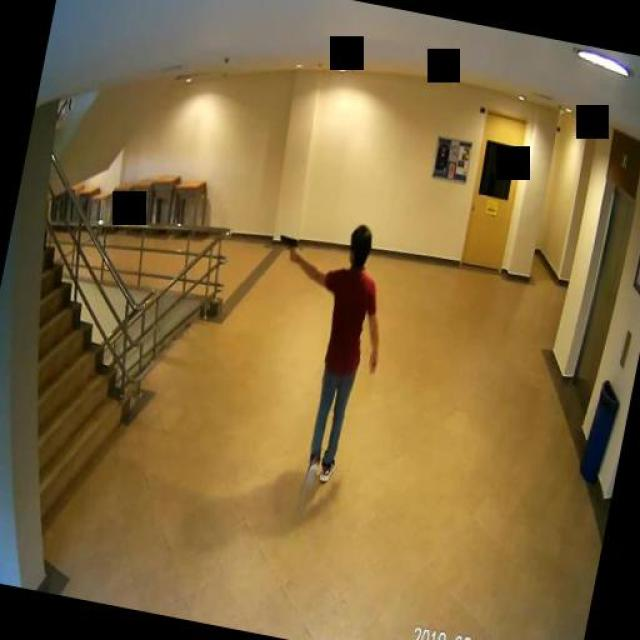gun: (275, 234, 297, 261)
